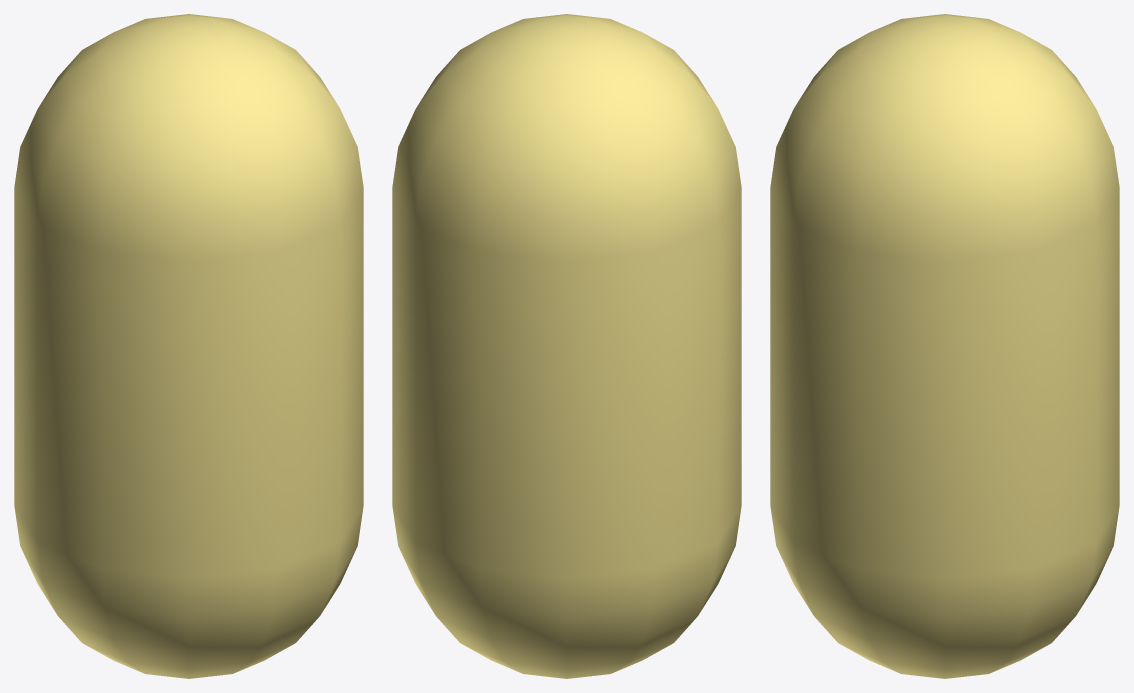
Rendered from CapsuleNode.FBX.
3 renders of one model, left to right at view 1: azimuth 30°, elevation 25°; view 2: azimuth 150°, elevation 25°; view 3: azimuth 270°, elevation 25°, orthographic.
Parts seen in each view (by area): view 1: Capsule001; view 2: Capsule001; view 3: Capsule001.
Boxes of the visible parts, box(x1,y1,x2,y2) form: Capsule001: box(14, 14, 363, 678); Capsule001: box(392, 14, 741, 678); Capsule001: box(770, 14, 1119, 678).
Bounding box in the file's own units: 1 × 2 × 1.
